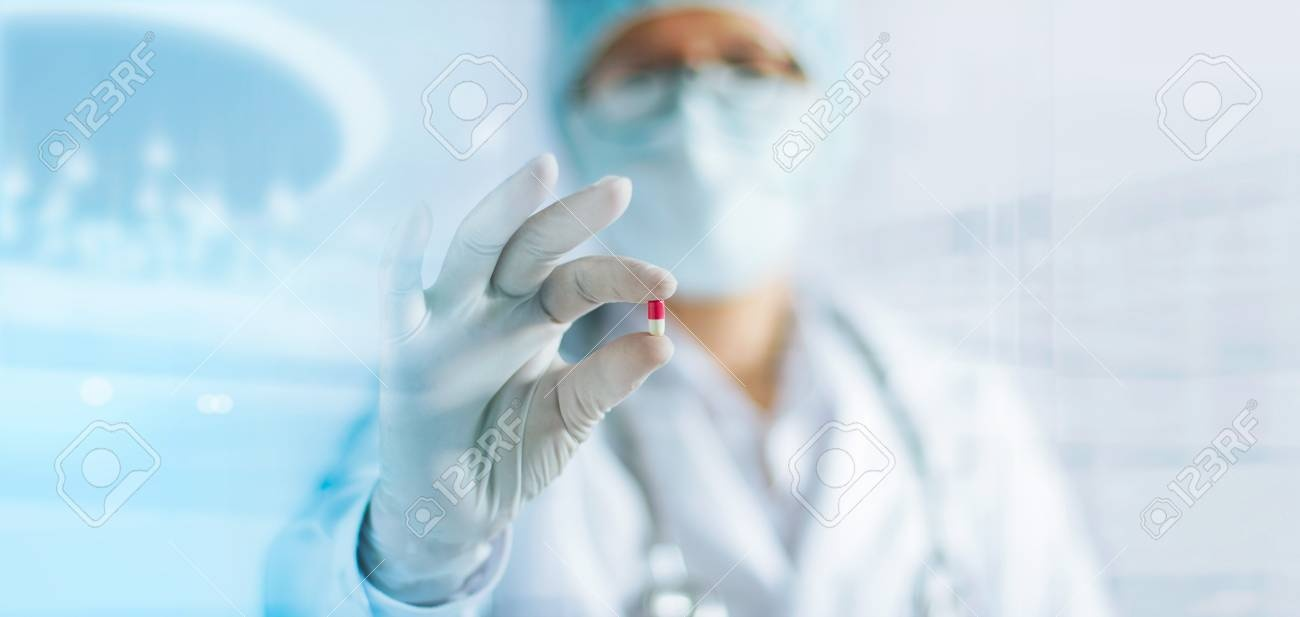pills: (645, 296, 670, 353)
